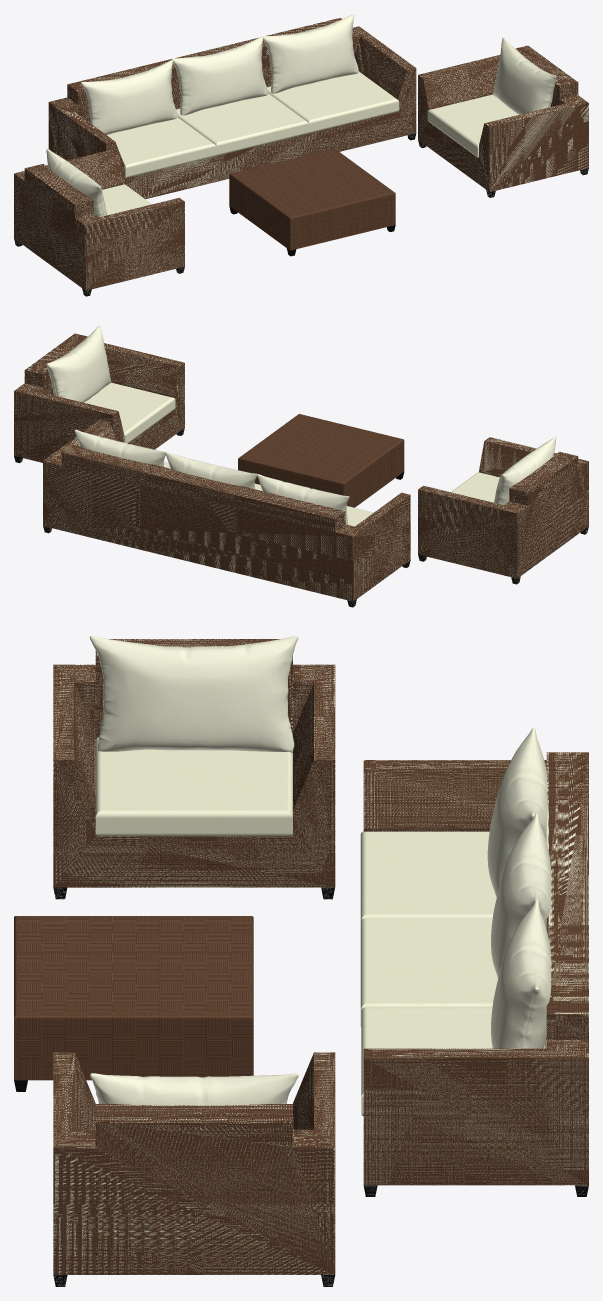
The model's file is furniture 5.dae.
3 views of the same model, one above another, from view 1: azimuth 30°, elevation 25°; view 2: azimuth 150°, elevation 25°; view 3: azimuth 270°, elevation 25° (orthographic). The views are drawn at different scales.
Parts seen in each view (by area): view 1: Component_2 (×5), Component_1 (×5), group_11, group_1, group_6, group_16; view 2: group_11, group_1, group_6, group_16, Component_2 (×5), Component_1 (×2); view 3: group_11, group_6, Component_1 (×4), Component_2 (×5), group_16, group_1.
Part boxes in pixels (bbox=[...]): Component_2 (×5): bbox=[46, 14, 556, 217]; Component_1 (×5): bbox=[102, 71, 518, 215]; group_11: bbox=[48, 18, 416, 199]; group_1: bbox=[14, 149, 184, 290]; group_6: bbox=[418, 45, 588, 191]; group_16: bbox=[229, 148, 395, 250]; group_11: bbox=[43, 419, 410, 601]; group_1: bbox=[418, 437, 588, 578]; group_6: bbox=[14, 333, 184, 462]; group_16: bbox=[238, 414, 404, 507]; Component_2 (×5): bbox=[46, 325, 556, 524]; Component_1 (×2): bbox=[84, 382, 499, 502]; group_11: bbox=[363, 752, 588, 1185]; group_6: bbox=[53, 1052, 335, 1274]; Component_1 (×4): bbox=[95, 737, 544, 1116]; Component_2 (×5): bbox=[89, 636, 551, 1105]; group_16: bbox=[14, 916, 253, 1080]; group_1: bbox=[53, 639, 335, 887].
Bounding box in the file's own units: 160 × 80.33 × 29.62.
4 materials, 2 textured.
